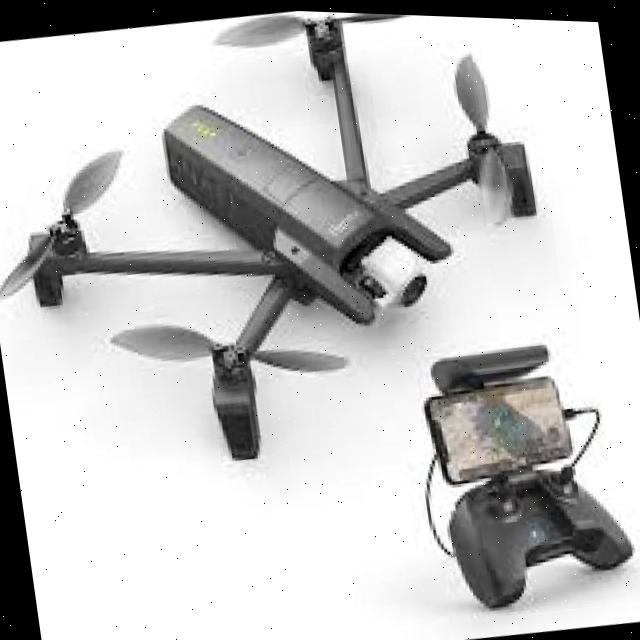drone: (0, 0, 586, 512)
